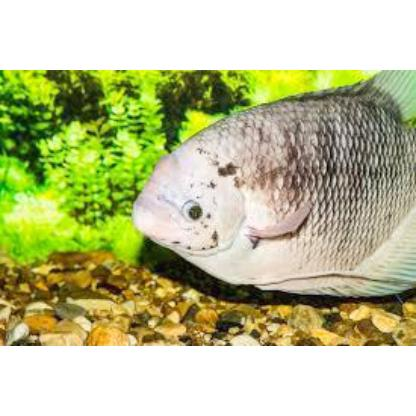gurame: (131, 78, 415, 298)
